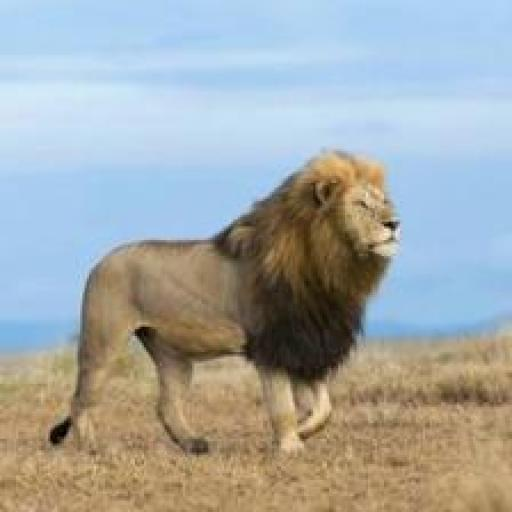lion: (283, 162, 408, 280)
